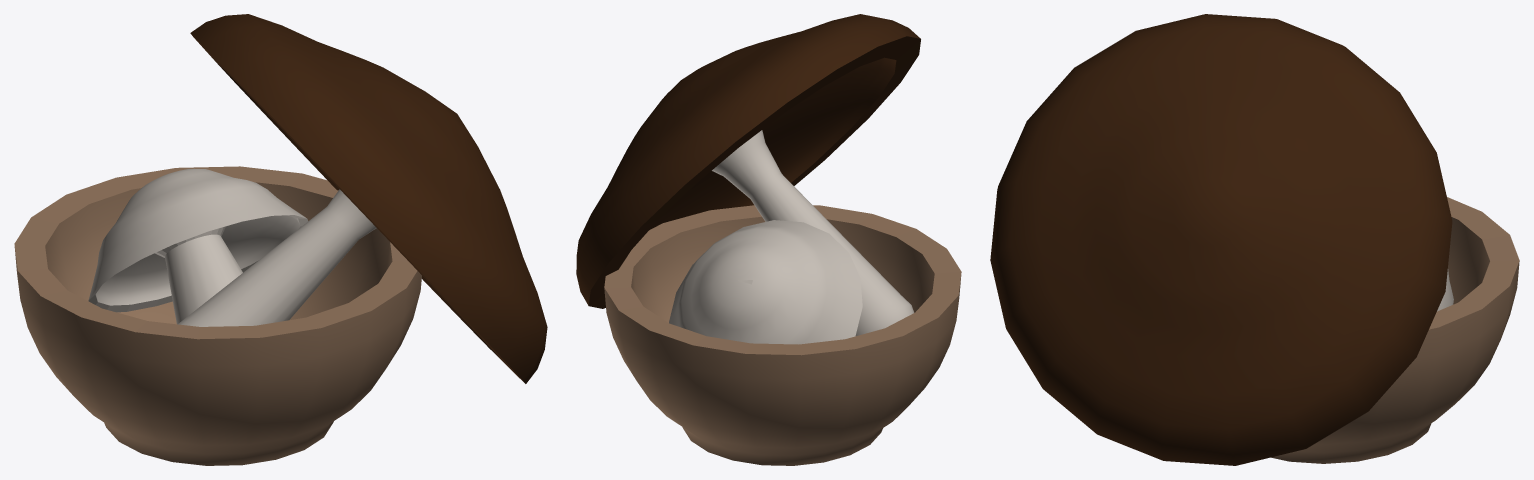
The model's file is SM_mushrooms.fbx.
3 views of the same model, side by side, from view 1: azimuth 30°, elevation 25°; view 2: azimuth 150°, elevation 25°; view 3: azimuth 270°, elevation 25° (orthographic). The views are drawn at different scales.
Visible parts, largest first — view 1: pCylinder5; view 2: pCylinder5; view 3: pCylinder5.
Part boxes in pixels (bbox=[...]): pCylinder5: bbox=[14, 14, 547, 465]; pCylinder5: bbox=[576, 14, 961, 465]; pCylinder5: bbox=[990, 14, 1519, 465].
Size of the model in its own units: 8.2 by 7.68 by 9.39.
